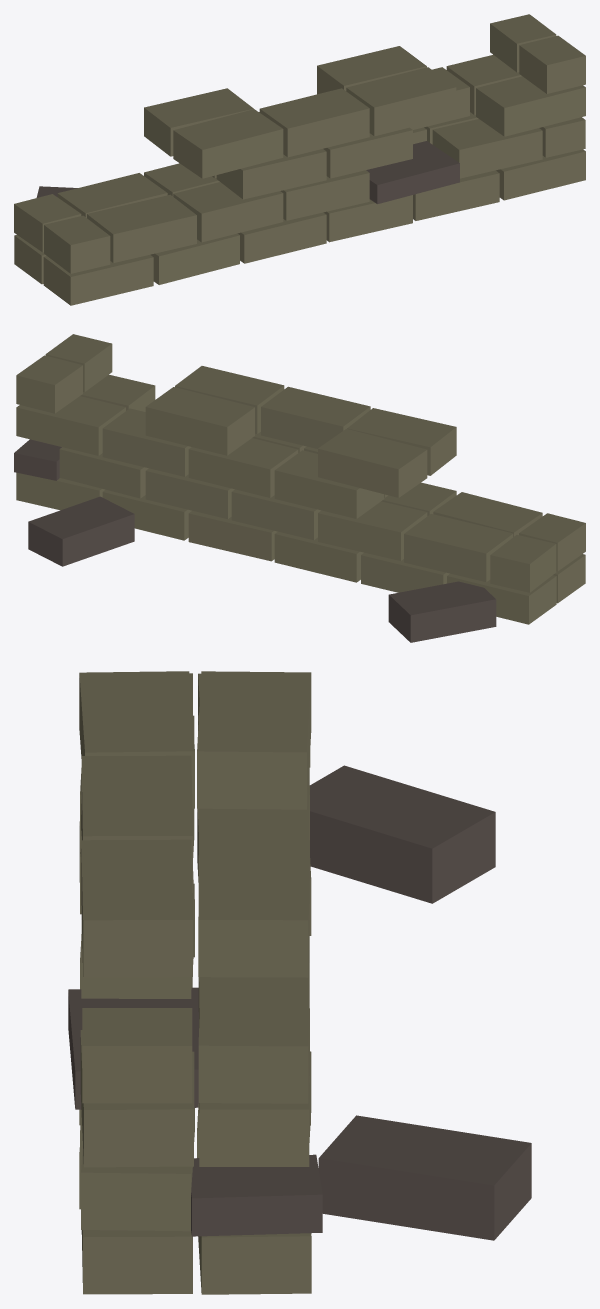
The model's file is SM_PretilTramo_v0_Recto_e1_Danado_LOD0.fbx.
3 views of the same model, one above another, from view 1: azimuth 30°, elevation 25°; view 2: azimuth 150°, elevation 25°; view 3: azimuth 270°, elevation 25° (orthographic). The views are drawn at different scales.
Visible parts, largest first — view 1: SM_pretil_azotea_v1_LOD0; view 2: SM_pretil_azotea_v1_LOD0; view 3: SM_pretil_azotea_v1_LOD0.
Part boxes in pixels (box(x1,y1,x2,y2)): SM_pretil_azotea_v1_LOD0: box(14, 14, 585, 305); SM_pretil_azotea_v1_LOD0: box(14, 334, 585, 642); SM_pretil_azotea_v1_LOD0: box(68, 671, 531, 1294).
Size of the model in its own units: 5.09 by 1.18 by 1.98.
